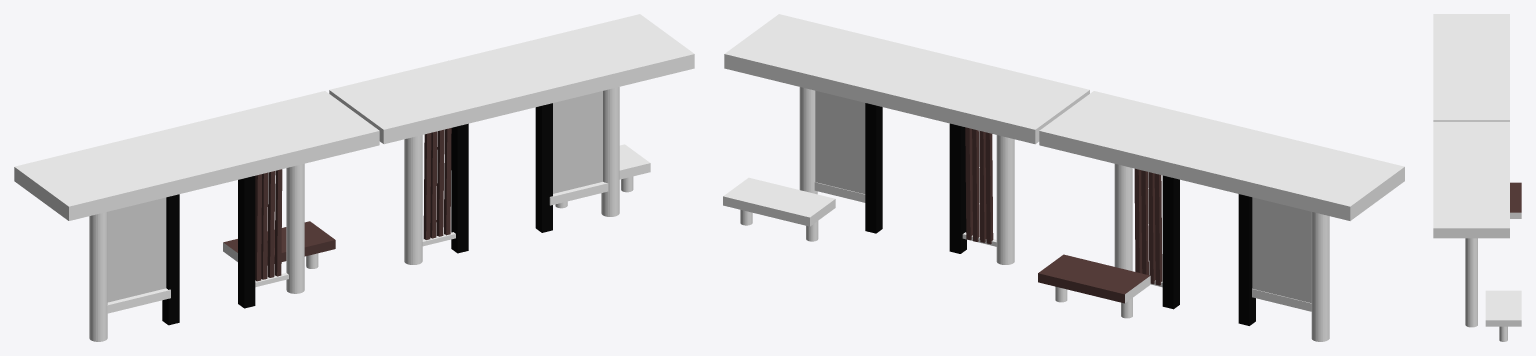
3 renders of one model, left to right at view 1: azimuth 30°, elevation 25°; view 2: azimuth 150°, elevation 25°; view 3: azimuth 270°, elevation 25°, orthographic. The views are drawn at different scales.
Parts seen in each view (by area): view 1: Cylinder.001, Cylinder.004, Cube.009, Cube.011, Cube.001, Cube.004, Cube.003, Cube, Cube.019, Cube.016, Cube.015, Cube.012 (+6 smaller); view 2: Cylinder.001, Cylinder.004, Cube.009, Cube.011, Cube.001, Cube.004, Cube.003, Cube, Cube.018, Cube.019, Cube.013, Cube.012 (+5 smaller); view 3: Cylinder.004, Cylinder.001.
Part boxes in pixels (left/top/right/bottom): Cylinder.001: left=14, top=91, right=379, bottom=341; Cylinder.004: left=329, top=14, right=694, bottom=264; Cube.009: left=107, top=197, right=166, bottom=302; Cube.011: left=553, top=91, right=602, bottom=193; Cube.001: left=238, top=176, right=255, bottom=308; Cube.004: left=535, top=103, right=552, bottom=232; Cube.003: left=451, top=123, right=468, bottom=253; Cube: left=162, top=194, right=179, bottom=325; Cube.019: left=444, top=128, right=451, bottom=235; Cube.016: left=274, top=169, right=282, bottom=276; Cube.015: left=267, top=171, right=275, bottom=277; Cube.012: left=423, top=133, right=431, bottom=239; Cylinder.001: left=1038, top=91, right=1404, bottom=341; Cylinder.004: left=723, top=14, right=1089, bottom=264; Cube.009: left=1252, top=197, right=1311, bottom=302; Cube.011: left=815, top=90, right=865, bottom=193; Cube.001: left=1162, top=175, right=1179, bottom=309; Cube.004: left=865, top=103, right=882, bottom=233; Cube.003: left=949, top=123, right=966, bottom=253; Cube: left=1238, top=194, right=1255, bottom=325; Cube.018: left=972, top=129, right=979, bottom=241; Cube.019: left=965, top=127, right=972, bottom=240; Cube.013: left=1154, top=173, right=1162, bottom=285; Cube.012: left=985, top=132, right=993, bottom=244; Cylinder.004: left=1433, top=121, right=1521, bottom=341; Cylinder.001: left=1433, top=14, right=1521, bottom=218.
Bounding box in the file's own units: 47.64 × 12.28 × 8.29.
